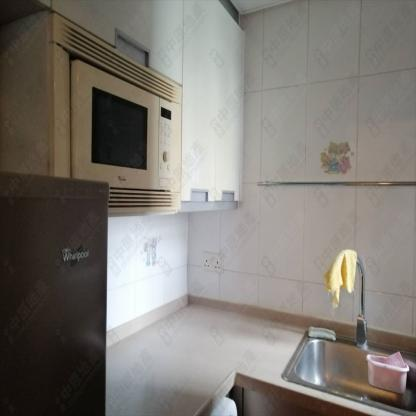Faucet: (324, 245, 366, 344)
Fridge: (0, 171, 109, 415)
Microwave: (3, 12, 184, 212)
Sink: (281, 329, 416, 415)
